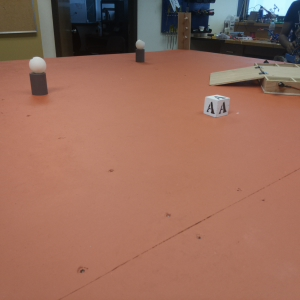blockA: (201, 94, 232, 118)
corner: (177, 11, 193, 53)
obstacle: (29, 57, 50, 96), (134, 38, 146, 67)
side: (269, 78, 300, 98)
slope: (206, 66, 267, 83)
